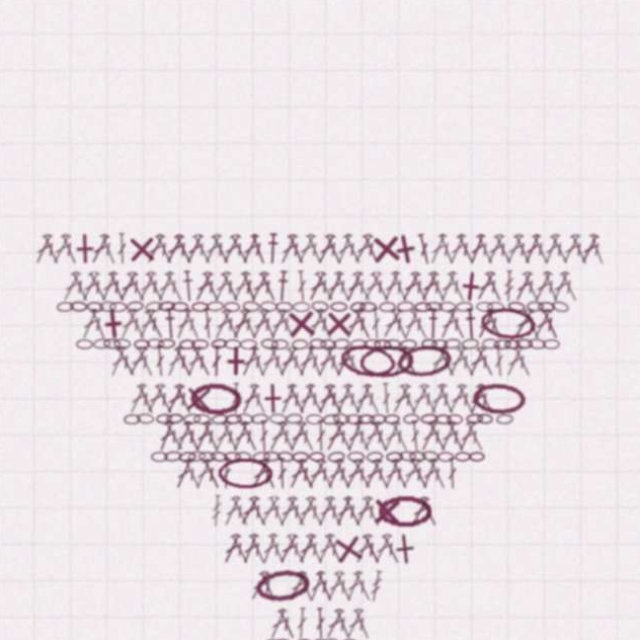chain: (337, 340, 395, 379), (476, 304, 533, 341), (254, 563, 310, 600), (394, 341, 450, 378), (357, 342, 413, 377), (469, 380, 523, 414), (190, 380, 243, 413), (218, 455, 272, 486), (376, 492, 429, 523), (547, 299, 565, 313), (331, 410, 349, 423), (179, 448, 197, 460), (210, 448, 228, 460), (252, 448, 270, 460), (276, 448, 294, 460), (326, 448, 344, 460), (364, 448, 382, 460), (211, 411, 229, 423), (321, 411, 339, 423), (367, 411, 385, 423), (490, 337, 508, 349), (88, 300, 106, 312), (146, 300, 164, 312), (504, 300, 522, 312), (348, 300, 365, 312), (419, 448, 437, 459), (236, 411, 254, 422), (260, 337, 278, 348), (308, 337, 326, 348), (331, 337, 349, 348), (524, 337, 542, 348), (242, 300, 260, 311), (310, 300, 328, 311), (165, 448, 182, 459), (189, 448, 206, 459), (263, 448, 280, 459), (397, 448, 414, 459), (407, 448, 424, 459), (138, 411, 155, 422), (167, 411, 184, 422), (184, 411, 201, 422), (251, 411, 268, 422), (269, 411, 286, 422), (285, 411, 302, 422), (418, 411, 435, 422), (463, 411, 480, 422), (95, 337, 112, 348), (105, 337, 122, 348), (115, 337, 132, 348), (148, 337, 165, 348), (159, 337, 176, 348), (211, 337, 228, 348), (441, 337, 458, 348), (459, 337, 476, 348), (479, 337, 496, 348), (512, 337, 529, 348), (72, 300, 89, 311), (101, 300, 118, 311), (128, 300, 145, 311), (159, 300, 176, 311), (207, 300, 224, 311), (260, 300, 277, 311), (395, 300, 412, 311), (523, 300, 540, 311), (157, 411, 173, 422), (401, 411, 417, 422), (474, 411, 490, 422), (419, 337, 435, 348), (152, 449, 169, 459), (199, 449, 216, 459), (224, 449, 241, 459), (291, 449, 308, 459), (346, 449, 363, 459), (384, 449, 401, 459), (125, 412, 142, 422), (194, 412, 211, 422), (225, 412, 242, 422), (305, 412, 322, 422), (344, 412, 361, 422), (356, 412, 373, 422), (493, 412, 510, 422), (78, 338, 95, 348), (192, 338, 209, 348), (224, 338, 241, 348), (240, 338, 257, 348), (271, 338, 288, 348), (349, 338, 366, 348), (362, 338, 379, 348), (372, 338, 389, 348), (382, 338, 399, 348), (398, 338, 415, 348), (539, 338, 556, 348), (59, 301, 76, 311), (111, 301, 128, 311), (172, 301, 189, 311), (192, 301, 209, 311), (275, 301, 292, 311), (292, 301, 309, 311), (329, 301, 346, 311), (358, 301, 375, 311), (377, 301, 394, 311), (412, 301, 429, 311), (423, 301, 440, 311), (436, 301, 453, 311), (453, 301, 470, 311), (473, 301, 490, 311), (484, 301, 501, 311), (534, 301, 551, 311), (235, 449, 251, 459), (308, 449, 324, 459), (435, 449, 451, 459), (452, 449, 468, 459), (466, 449, 482, 459), (382, 412, 398, 422), (433, 412, 449, 422), (444, 412, 460, 422), (135, 338, 151, 348), (180, 338, 196, 348), (291, 338, 307, 348), (319, 338, 335, 348), (429, 338, 445, 348), (501, 338, 517, 348), (224, 301, 240, 311), (275, 633, 292, 640), (310, 633, 327, 640), (322, 633, 339, 640), (264, 634, 281, 640), (295, 634, 312, 640), (340, 634, 357, 640)
double: (126, 307, 150, 339), (257, 492, 281, 523), (397, 455, 421, 486), (163, 418, 187, 449), (127, 344, 151, 375), (378, 307, 402, 338), (508, 307, 532, 338), (322, 603, 345, 635), (276, 529, 299, 561), (284, 529, 307, 561), (276, 492, 299, 524), (294, 492, 317, 524), (406, 492, 429, 524), (304, 455, 327, 487), (341, 455, 364, 487), (349, 455, 372, 487), (266, 418, 289, 450), (322, 418, 345, 450), (406, 381, 429, 413), (443, 381, 466, 413), (116, 344, 139, 376), (191, 344, 214, 376), (257, 344, 280, 376), (276, 344, 299, 376), (284, 344, 307, 376), (443, 344, 466, 376), (144, 307, 167, 339), (527, 307, 550, 339), (62, 270, 85, 302), (88, 270, 111, 302), (118, 270, 141, 302), (126, 270, 149, 302), (219, 270, 242, 302), (248, 270, 271, 302), (349, 270, 372, 302), (359, 270, 382, 302), (367, 270, 390, 302), (397, 270, 420, 302), (52, 233, 75, 265), (90, 233, 113, 265), (145, 233, 168, 265), (164, 233, 187, 265), (191, 233, 214, 265), (220, 233, 243, 265), (228, 233, 251, 265), (294, 233, 317, 265), (544, 233, 567, 265), (248, 566, 271, 597), (238, 492, 261, 523), (359, 418, 382, 449), (145, 381, 168, 412), (312, 270, 335, 301), (471, 270, 494, 301), (350, 233, 373, 264), (275, 603, 297, 635), (342, 603, 364, 635), (286, 566, 308, 598), (323, 566, 345, 598), (331, 566, 353, 598), (350, 566, 372, 598), (221, 529, 243, 561), (229, 529, 251, 561), (295, 529, 317, 561), (303, 529, 325, 561), (322, 529, 344, 561), (351, 529, 373, 561), (359, 529, 381, 561), (370, 529, 392, 561), (378, 529, 400, 561), (221, 492, 243, 524), (229, 492, 251, 524), (247, 492, 269, 524), (285, 492, 307, 524), (303, 492, 325, 524), (314, 492, 336, 524), (322, 492, 344, 524), (340, 492, 362, 524), (351, 492, 373, 524), (359, 492, 381, 524), (415, 492, 437, 524), (182, 455, 204, 487), (201, 455, 223, 487), (249, 455, 271, 487), (294, 455, 316, 487), (313, 455, 335, 487), (323, 455, 345, 487), (360, 455, 382, 487), (368, 455, 390, 487), (406, 455, 428, 487), (424, 455, 446, 487), (212, 418, 234, 450), (238, 418, 260, 450), (275, 418, 297, 450), (286, 418, 308, 450), (294, 418, 316, 450), (331, 418, 353, 450), (387, 418, 409, 450), (424, 418, 446, 450), (453, 418, 475, 450), (461, 418, 483, 450), (128, 381, 150, 413), (136, 381, 158, 413), (154, 381, 176, 413), (165, 381, 187, 413), (173, 381, 195, 413), (239, 381, 261, 413), (247, 381, 269, 413), (285, 381, 307, 413), (303, 381, 325, 413), (314, 381, 336, 413), (322, 381, 344, 413), (340, 381, 362, 413), (359, 381, 381, 413), (388, 381, 410, 413), (415, 381, 437, 413), (452, 381, 474, 413), (471, 381, 493, 413), (173, 344, 195, 376), (332, 344, 354, 376), (340, 344, 362, 376), (396, 344, 418, 376), (425, 344, 447, 376), (433, 344, 455, 376), (452, 344, 474, 376), (463, 344, 485, 376), (471, 344, 493, 376), (500, 344, 522, 376), (508, 344, 530, 376), (119, 307, 141, 339), (137, 307, 159, 339), (212, 307, 234, 339), (220, 307, 242, 339), (230, 307, 252, 339), (249, 307, 271, 339), (267, 307, 289, 339), (275, 307, 297, 339), (342, 307, 364, 339), (350, 307, 372, 339), (406, 307, 428, 339), (443, 307, 465, 339), (472, 307, 494, 339), (517, 307, 539, 339), (71, 270, 93, 302), (81, 270, 103, 302), (137, 270, 159, 302), (145, 270, 167, 302), (164, 270, 186, 302), (193, 270, 215, 302), (230, 270, 252, 302), (305, 270, 327, 302), (406, 270, 428, 302), (416, 270, 438, 302), (424, 270, 446, 302), (443, 270, 465, 302), (509, 270, 531, 302), (528, 270, 550, 302), (554, 270, 576, 302), (35, 233, 57, 265), (154, 233, 176, 265), (173, 233, 195, 265), (184, 233, 206, 265), (202, 233, 224, 265), (210, 233, 232, 265), (239, 233, 261, 265), (277, 233, 299, 265), (314, 233, 336, 265), (340, 233, 362, 265), (452, 233, 474, 265), (471, 233, 493, 265), (481, 233, 503, 265), (489, 233, 511, 265), (500, 233, 522, 265), (508, 233, 530, 265), (526, 233, 548, 265), (556, 233, 578, 265), (564, 233, 586, 265), (574, 233, 596, 265), (267, 603, 288, 635), (331, 603, 352, 635), (350, 603, 371, 635), (257, 566, 278, 598), (313, 566, 334, 598), (342, 566, 363, 598), (247, 529, 268, 561), (266, 529, 287, 561), (314, 529, 335, 561), (266, 492, 287, 524), (332, 492, 353, 524), (174, 455, 195, 487), (193, 455, 214, 487), (257, 455, 278, 487), (286, 455, 307, 487), (331, 455, 352, 487), (387, 455, 408, 487), (174, 418, 195, 450), (182, 418, 203, 450), (193, 418, 214, 450), (201, 418, 222, 450), (220, 418, 241, 450), (230, 418, 251, 450), (350, 418, 371, 450), (368, 418, 389, 450), (379, 418, 400, 450), (416, 418, 437, 450), (435, 418, 456, 450), (443, 418, 464, 450), (277, 381, 298, 413), (295, 381, 316, 413), (332, 381, 353, 413), (351, 381, 372, 413), (396, 381, 417, 413), (425, 381, 446, 413), (433, 381, 454, 413), (109, 344, 130, 376), (136, 344, 157, 376), (165, 344, 186, 376), (239, 344, 260, 376), (295, 344, 316, 376), (314, 344, 335, 376), (322, 344, 343, 376), (81, 307, 102, 339), (174, 307, 195, 339), (182, 307, 203, 339), (238, 307, 259, 339), (257, 307, 278, 339), (305, 307, 326, 339), (313, 307, 334, 339), (387, 307, 408, 339), (435, 307, 456, 339), (536, 307, 557, 339), (100, 270, 121, 302), (108, 270, 129, 302), (156, 270, 177, 302), (201, 270, 222, 302), (212, 270, 233, 302), (257, 270, 278, 302), (323, 270, 344, 302), (331, 270, 352, 302), (342, 270, 363, 302), (379, 270, 400, 302), (387, 270, 408, 302), (435, 270, 456, 302), (480, 270, 501, 302), (517, 270, 538, 302), (546, 270, 567, 302), (43, 233, 64, 265), (61, 233, 82, 265), (285, 233, 306, 265), (303, 233, 324, 265), (322, 233, 343, 265), (359, 233, 380, 265), (425, 233, 446, 265), (444, 233, 465, 265), (518, 233, 539, 265), (295, 566, 315, 598), (306, 566, 326, 598), (240, 529, 260, 561), (259, 529, 279, 561), (380, 455, 400, 487), (417, 455, 437, 487), (157, 418, 177, 450), (343, 418, 363, 450), (464, 381, 484, 413), (185, 344, 205, 376), (248, 344, 268, 376), (267, 344, 287, 376), (304, 344, 324, 376), (389, 344, 409, 376), (90, 307, 110, 339), (399, 307, 419, 339), (481, 307, 501, 339), (239, 270, 259, 302), (537, 270, 557, 302), (100, 233, 120, 265), (248, 233, 268, 265), (333, 233, 353, 265), (434, 233, 454, 265), (464, 233, 484, 265), (538, 233, 558, 265), (583, 233, 602, 265), (414, 233, 430, 265), (295, 603, 307, 634), (407, 418, 419, 449), (155, 344, 167, 375), (490, 344, 502, 375), (202, 307, 214, 338), (295, 270, 307, 301), (314, 603, 325, 634), (221, 455, 232, 486), (276, 455, 287, 486), (444, 455, 455, 486), (258, 418, 269, 449), (379, 381, 390, 412), (369, 307, 380, 338), (118, 233, 129, 264), (315, 418, 325, 449), (231, 381, 241, 412), (212, 344, 222, 375)
half_double: (164, 307, 178, 338), (461, 307, 475, 338), (182, 270, 196, 301), (275, 270, 289, 301), (266, 233, 279, 264), (425, 307, 436, 338)
single: (329, 527, 365, 563), (385, 231, 421, 267), (386, 528, 420, 562), (98, 306, 132, 340), (451, 269, 485, 303), (284, 306, 317, 339), (368, 232, 401, 265), (369, 492, 401, 524), (183, 381, 215, 413), (127, 233, 159, 265), (257, 381, 288, 412), (220, 344, 251, 375), (322, 307, 353, 338), (71, 233, 102, 264)
treble: (367, 566, 382, 598), (211, 492, 223, 523), (500, 270, 511, 301)
